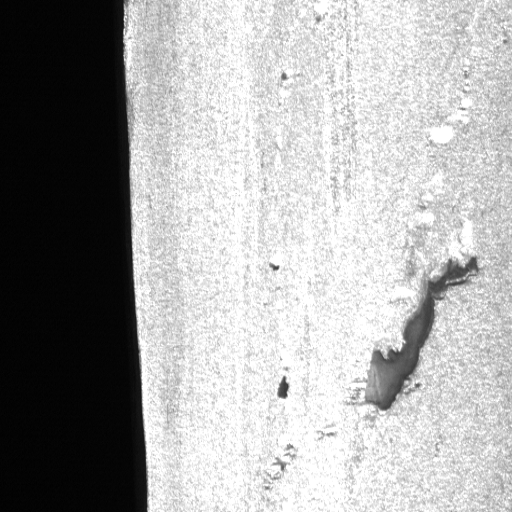aokeng: (363, 251, 477, 410)
